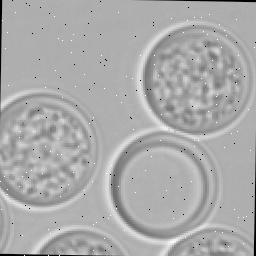picoshell: (103, 128, 221, 243), (137, 21, 253, 137), (0, 89, 100, 211), (158, 223, 252, 256), (32, 225, 126, 254), (0, 197, 12, 252)
